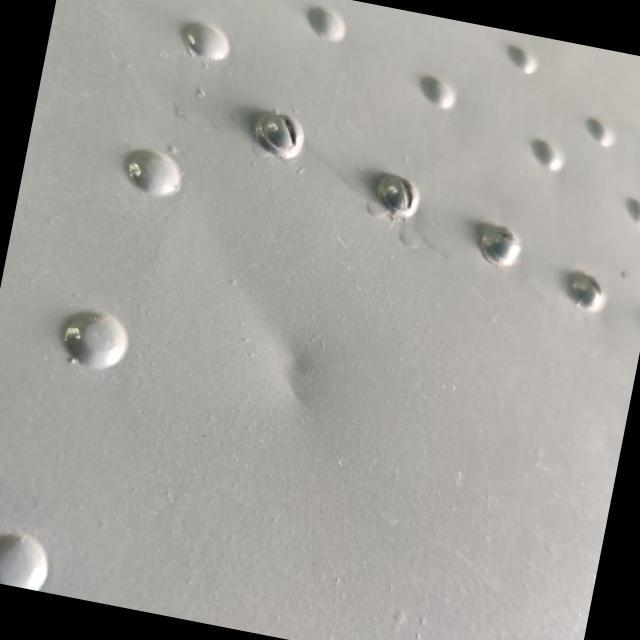Dent: (223, 312, 367, 451)
